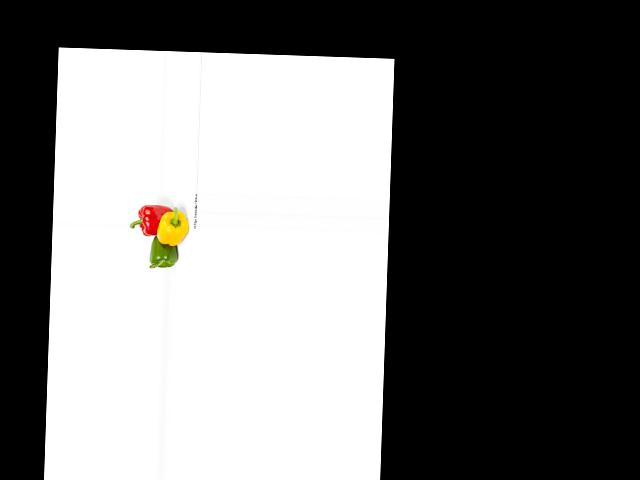bell_pepper: (130, 201, 171, 237)
